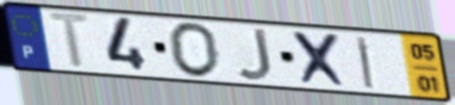4: (104, 14, 155, 76)
I: (354, 35, 377, 91)
J: (234, 27, 275, 83)
O: (166, 20, 223, 80)
T: (45, 10, 97, 71)
X: (289, 29, 353, 91)
